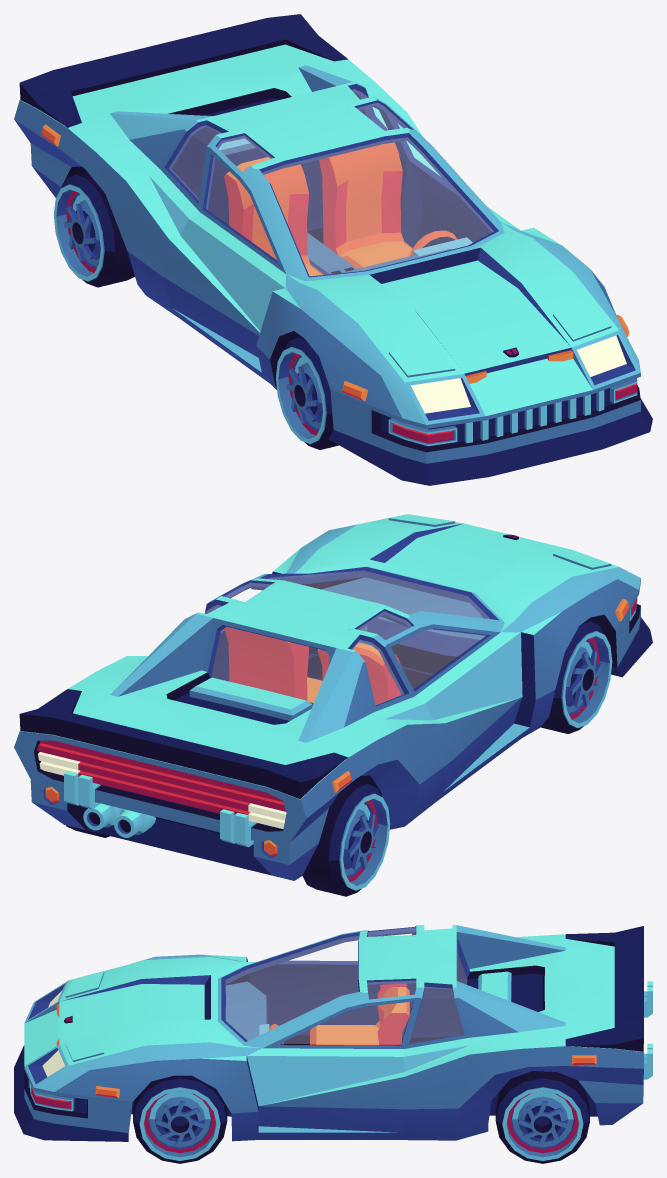
Rendered from vehicle-C7rzoEDw.glb.
3 renders of one model, top to bottom at view 1: azimuth 30°, elevation 25°; view 2: azimuth 150°, elevation 25°; view 3: azimuth 270°, elevation 25°, orthographic. The views are drawn at different scales.
Visible parts, largest first — view 1: CarBody, Doors, CarBumper, Wheel_BR, Wheel_FR; view 2: CarBody, Doors, Wheel_BR, Wheel_FR, CarBumper; view 3: CarBody, Doors, Wheel_BL, Wheel_FL, CarBumper.
Part boxes in pixels (box(x1,y1,x2,y2)): CarBody: box(14, 14, 640, 424); Doors: box(161, 98, 520, 357); CarBumper: box(328, 373, 652, 485); Wheel_BR: box(53, 172, 134, 287); Wheel_FR: box(276, 336, 338, 449); CarBody: box(14, 514, 640, 880); Doors: box(210, 579, 522, 791); Wheel_BR: box(302, 780, 390, 896); Wheel_FR: box(541, 620, 612, 733); CarBumper: box(601, 578, 652, 677); CarBody: box(24, 925, 652, 1141); Doors: box(247, 925, 420, 1132); Wheel_BL: box(495, 1071, 589, 1163); Wheel_FL: box(133, 1075, 227, 1163); CarBumper: box(14, 1045, 132, 1141).
Size of the model in its own units: 1.33 by 0.8041 by 3.03.
Materials: 2 (1 with a texture image).
